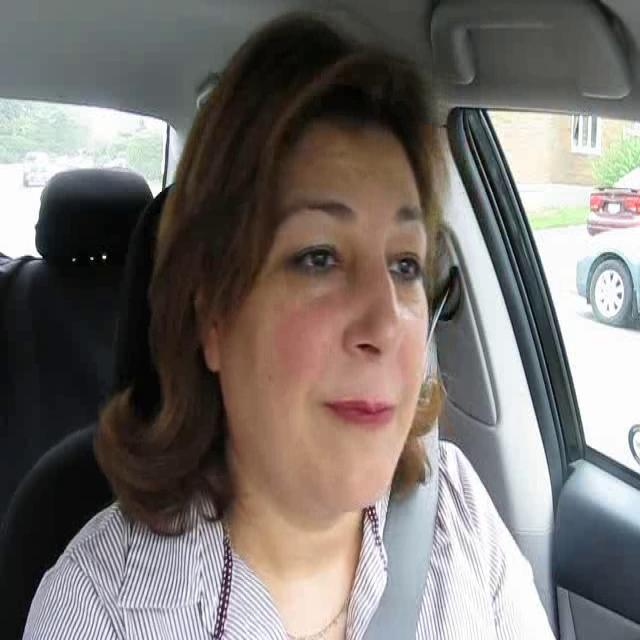close: (314, 390, 400, 432)
